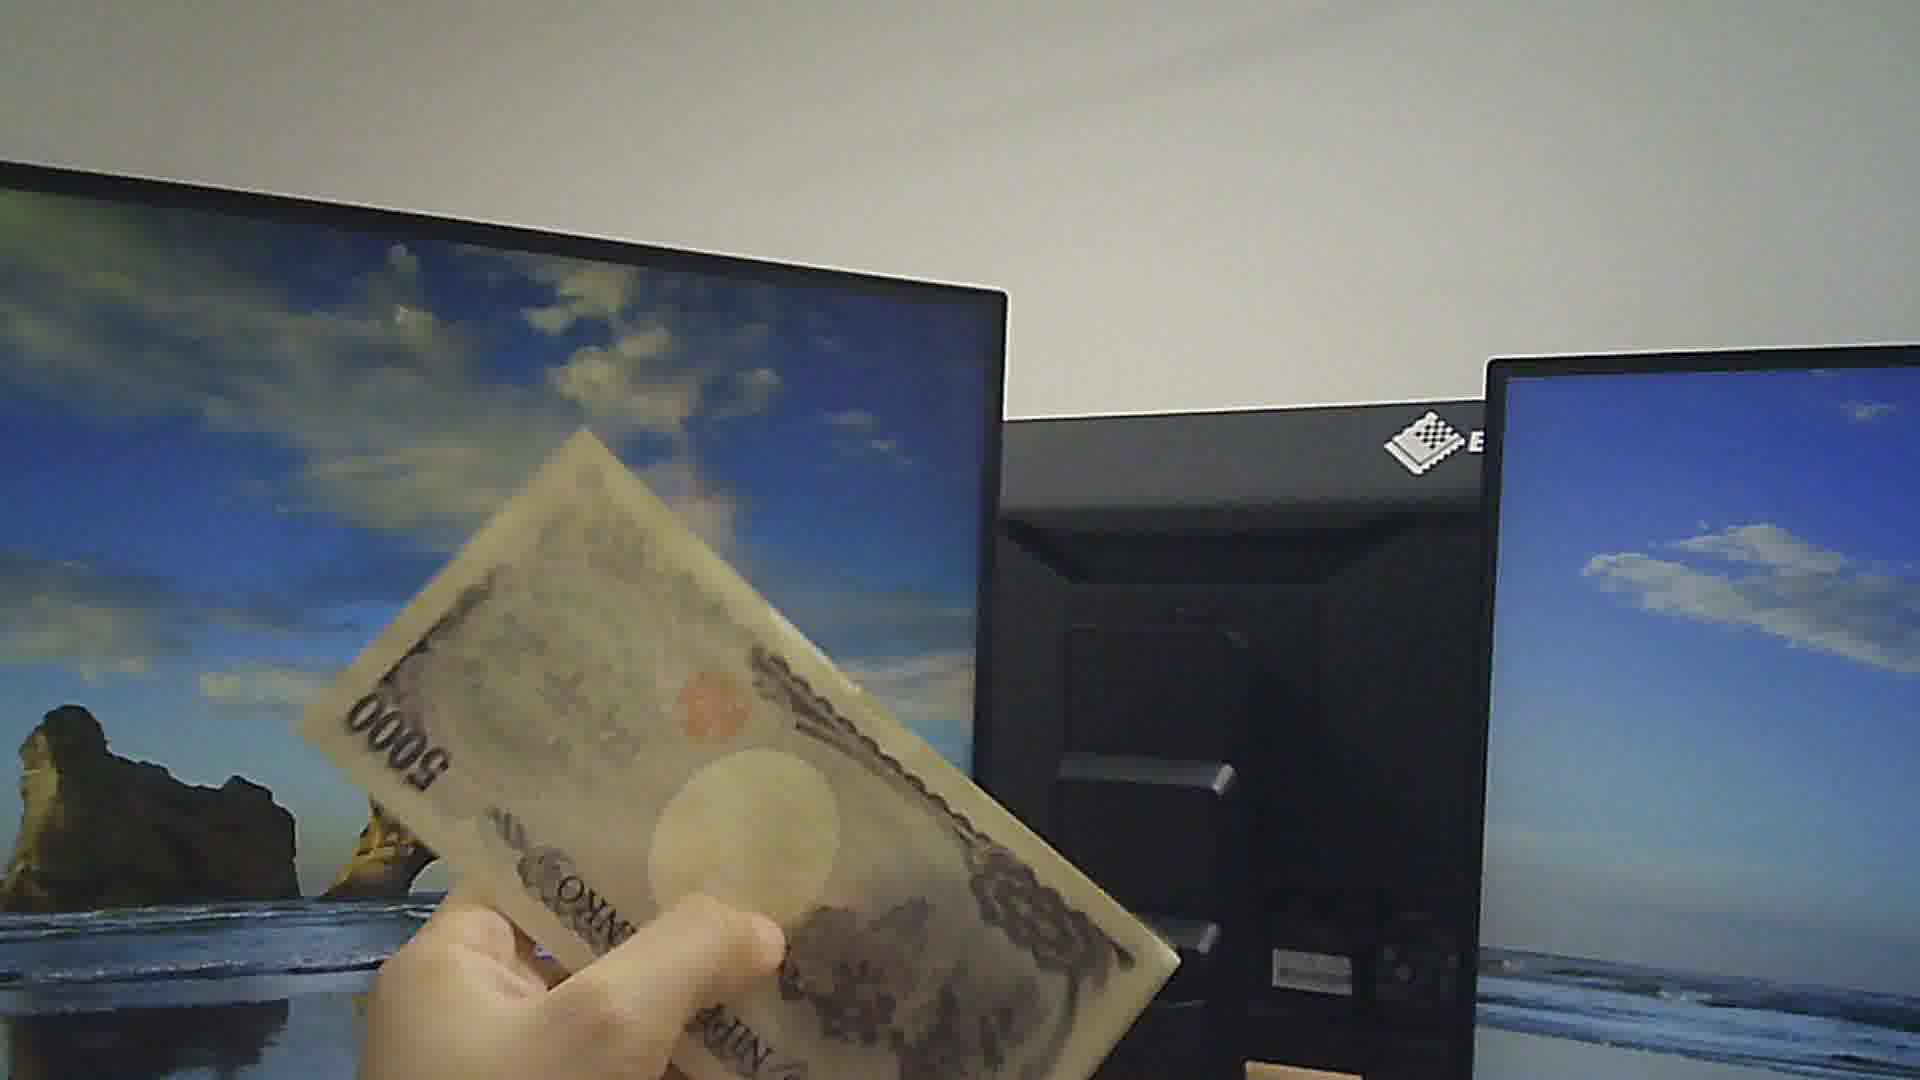5,000 Yen: (278, 438, 1164, 1079)
